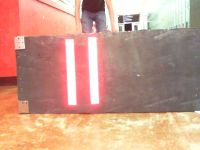switch: (65, 38, 78, 106), (87, 37, 100, 104)
